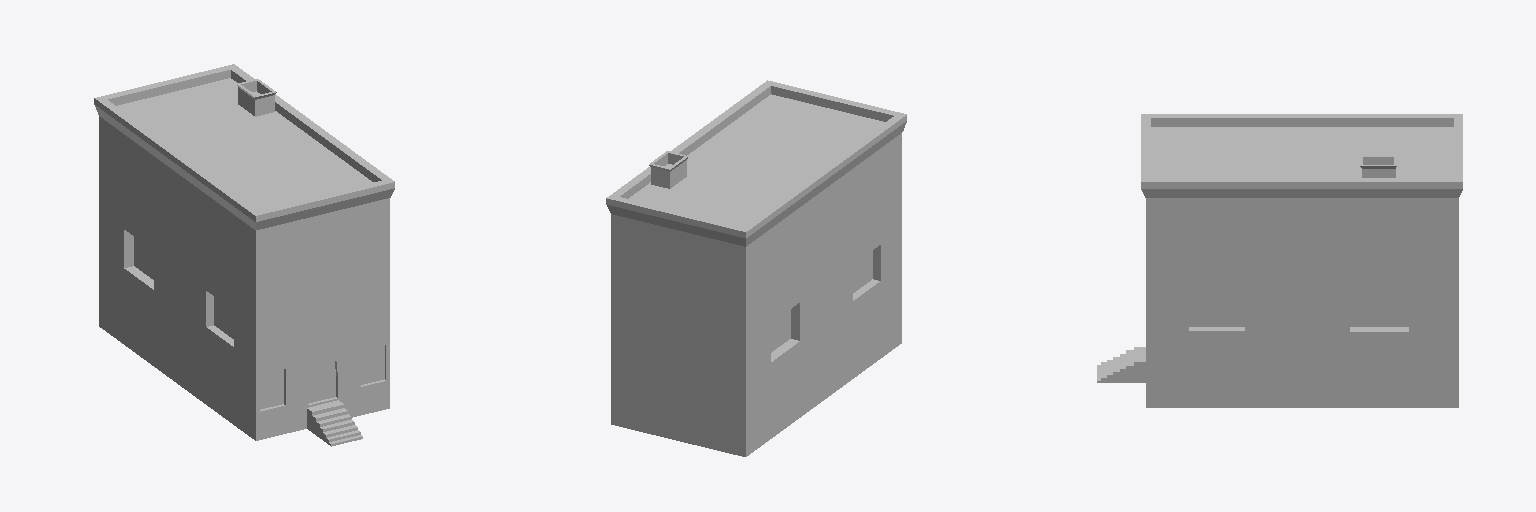
The model's file is edificio02.obj.
The picture shows the model from 3 angles: view 1: azimuth 30°, elevation 25°; view 2: azimuth 150°, elevation 25°; view 3: azimuth 270°, elevation 25°; orthographic projection.
Visible parts, largest first — view 1: Edificio_2; view 2: Edificio_2; view 3: Edificio_2.
Boxes of the visible parts, x1=… form: Edificio_2: x1=94, y1=64, x2=394, y2=446; Edificio_2: x1=606, y1=80, x2=906, y2=456; Edificio_2: x1=1097, y1=114, x2=1462, y2=407.
Size of the model in its own units: 9.78 by 15.99 by 22.22.